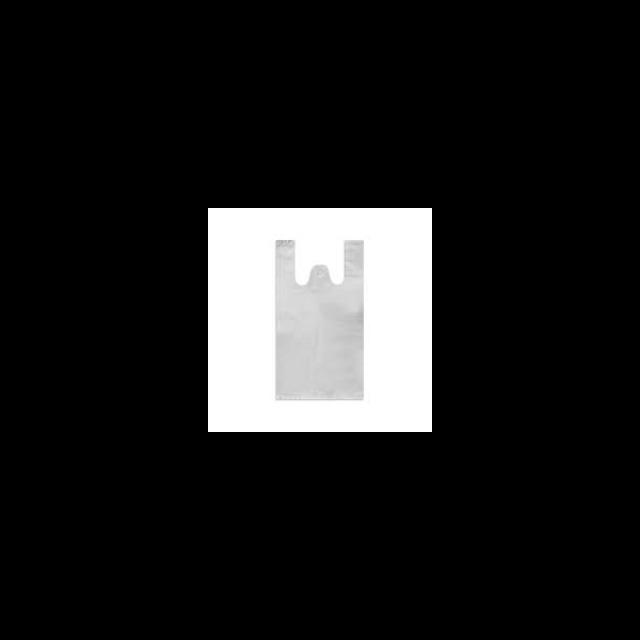plastic: (261, 230, 367, 416)
